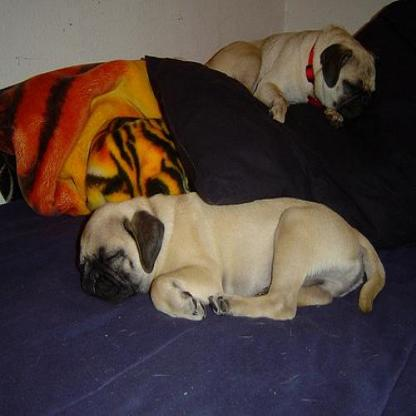pug: (78, 191, 385, 319), (200, 23, 378, 126)
